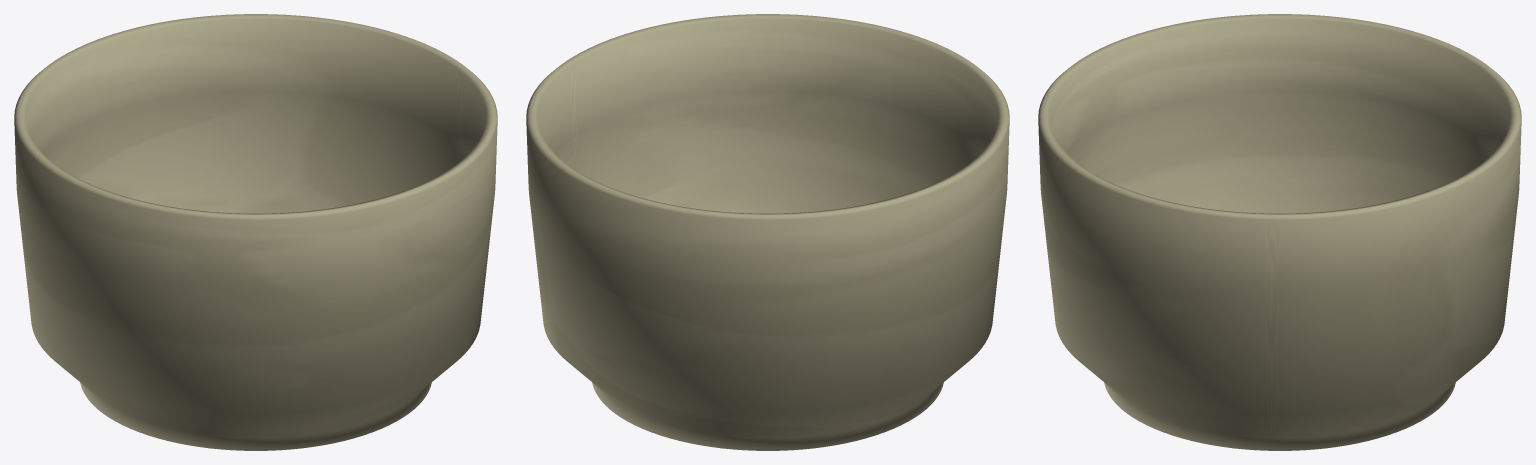
File: dishware__matcha_bowl.glb
3 views of the same model, side by side, from view 1: azimuth 30°, elevation 25°; view 2: azimuth 150°, elevation 25°; view 3: azimuth 270°, elevation 25° (orthographic).
Visible parts, largest first — view 1: body; view 2: body; view 3: body.
Part boxes in pixels (bbox=[...]): body: bbox=[14, 14, 497, 450]; body: bbox=[526, 14, 1009, 450]; body: bbox=[1038, 14, 1521, 450].
Bounding box in the file's own units: 0.139 × 0.083 × 0.139.
Materials: 1 (1 with a texture image).
